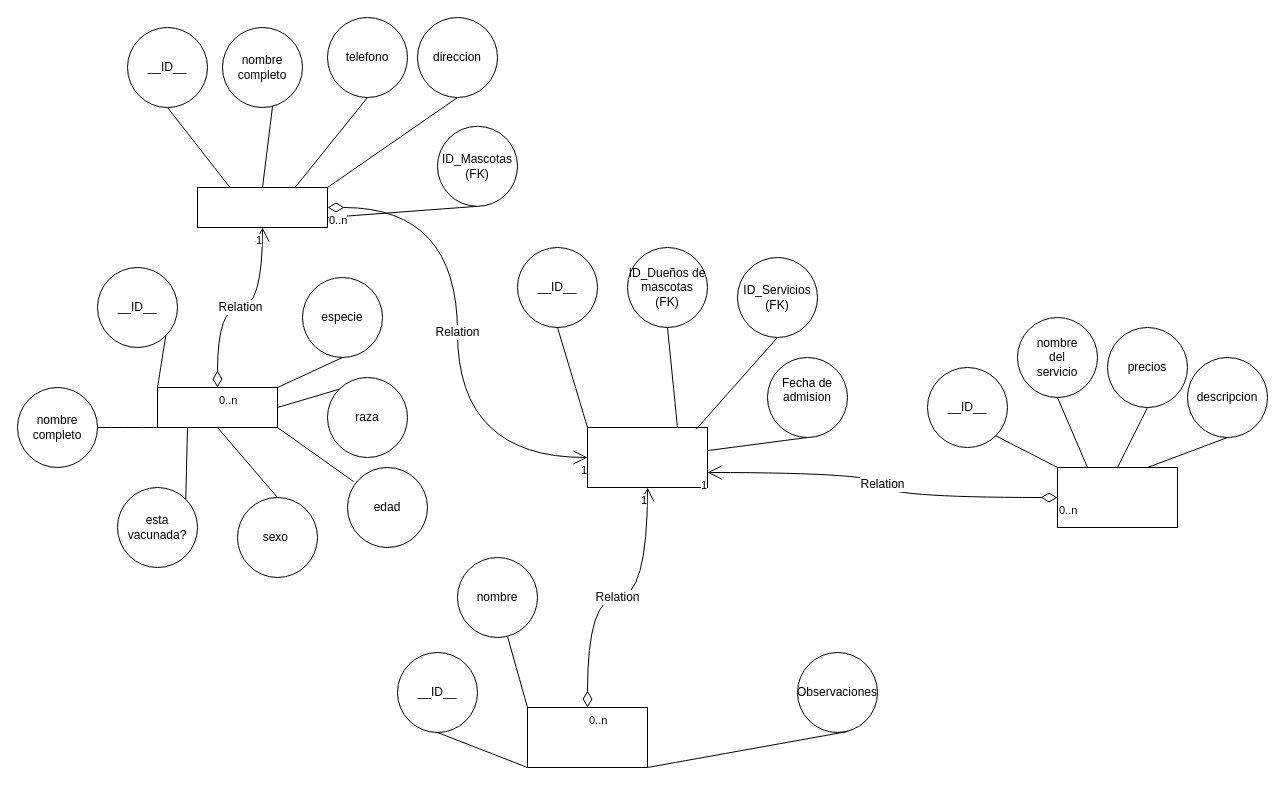
Some shapes in this 1285 by 785 pixel diagram are drawn without their labels. The centre of each missing label's shape, as x and y in pixels:
"Dueños de mascotas" belongs at [262,207].
"Mascotas" belongs at [217,407].
"registro de visitas" belongs at [647,457].
"Servicios" belongs at [1117,497].
"traramientos" belongs at [587,737].
